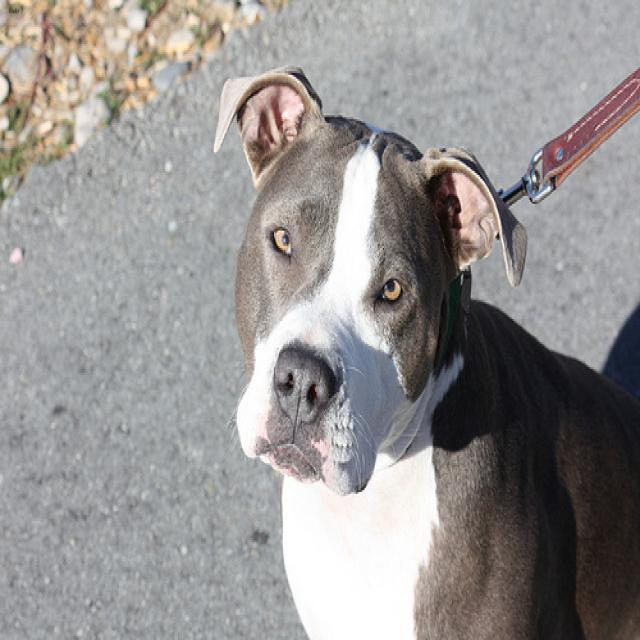dog-american_pit_bull_terrier: (206, 56, 637, 636)
